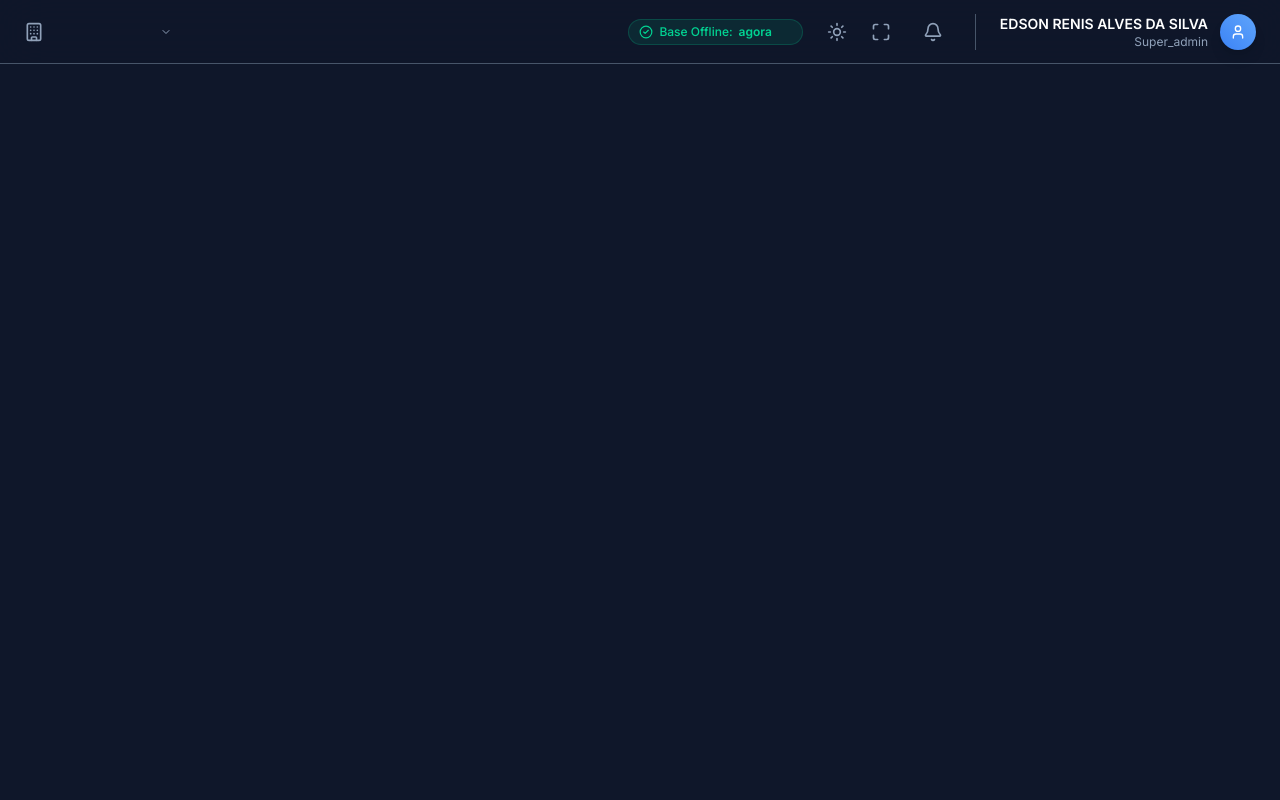
Scenario: menu do usuário no Topbar › alterar senha abre o modal e fecha o menu
The image size is (1280, 800).
Click the button titled "Minha conta": (1115, 32) [975,14,1256,50]
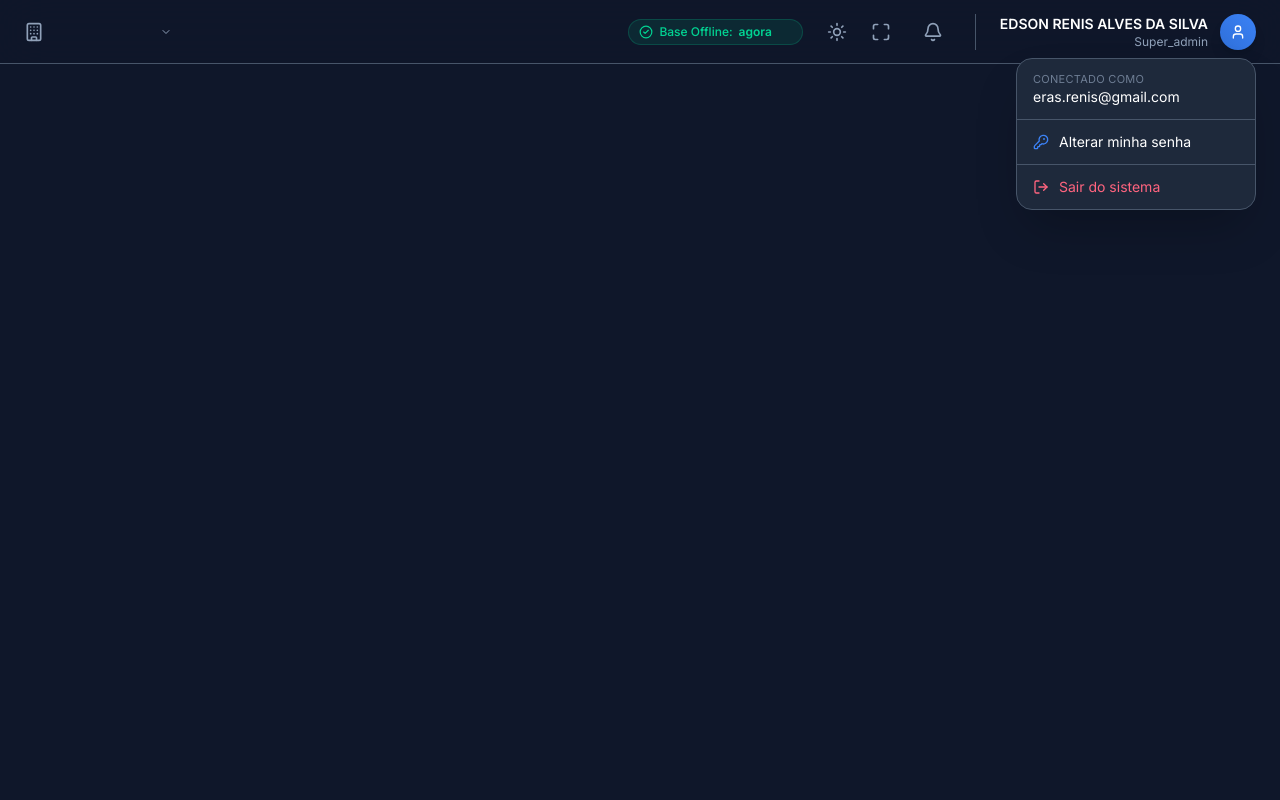
Click the menu item "Alterar minha senha": (1136, 142) [1017,120,1255,164]
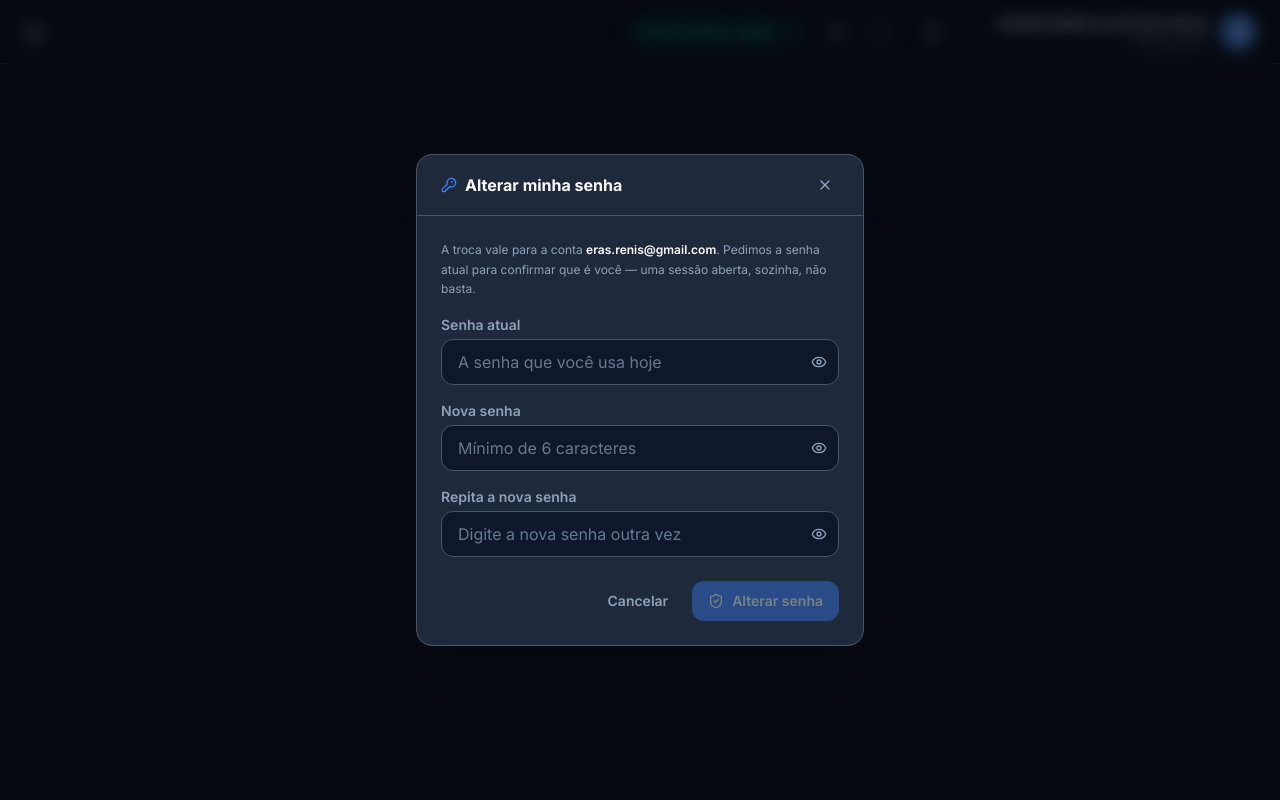
Result: the heading "Alterar minha senha" is shown at [441,173,622,197]
Result: the menu is gone
Result: the password field labelled "Senha atual" is shown at [441,339,839,385]
